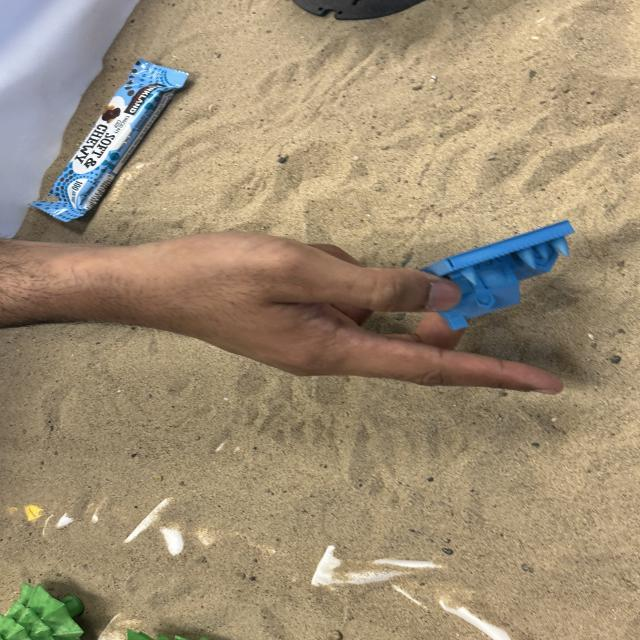house: (421, 221, 576, 333)
tree: (0, 582, 86, 639)
